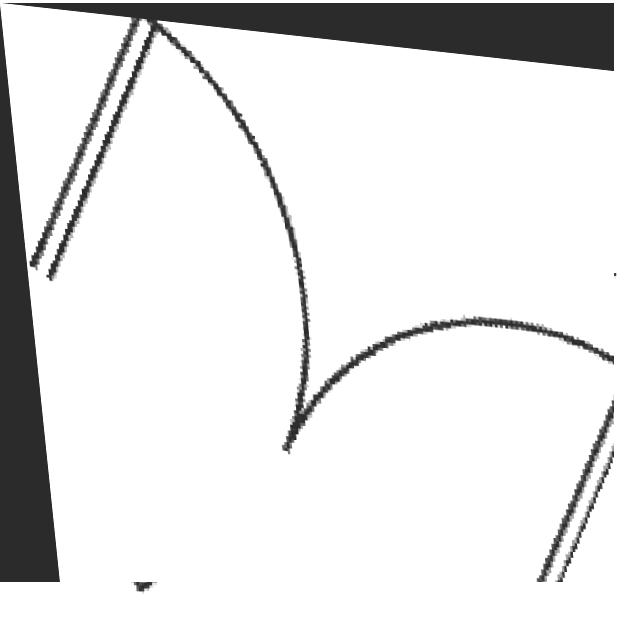door: (0, 3, 614, 582)
